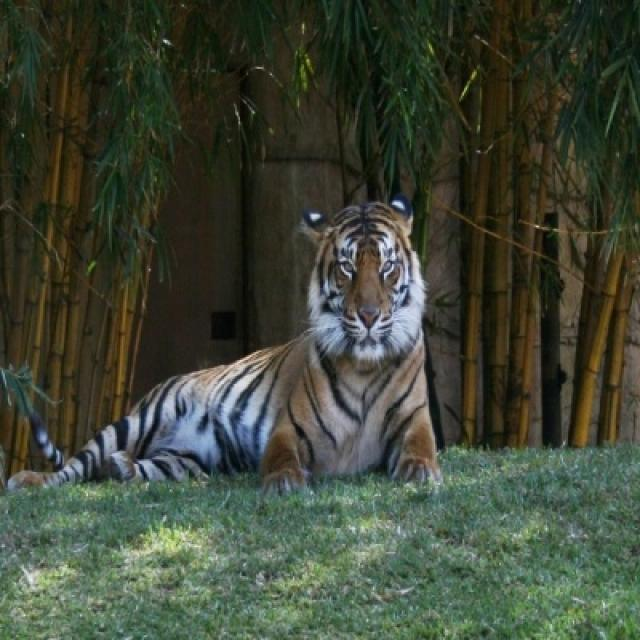Tiger: (22, 190, 444, 487)
